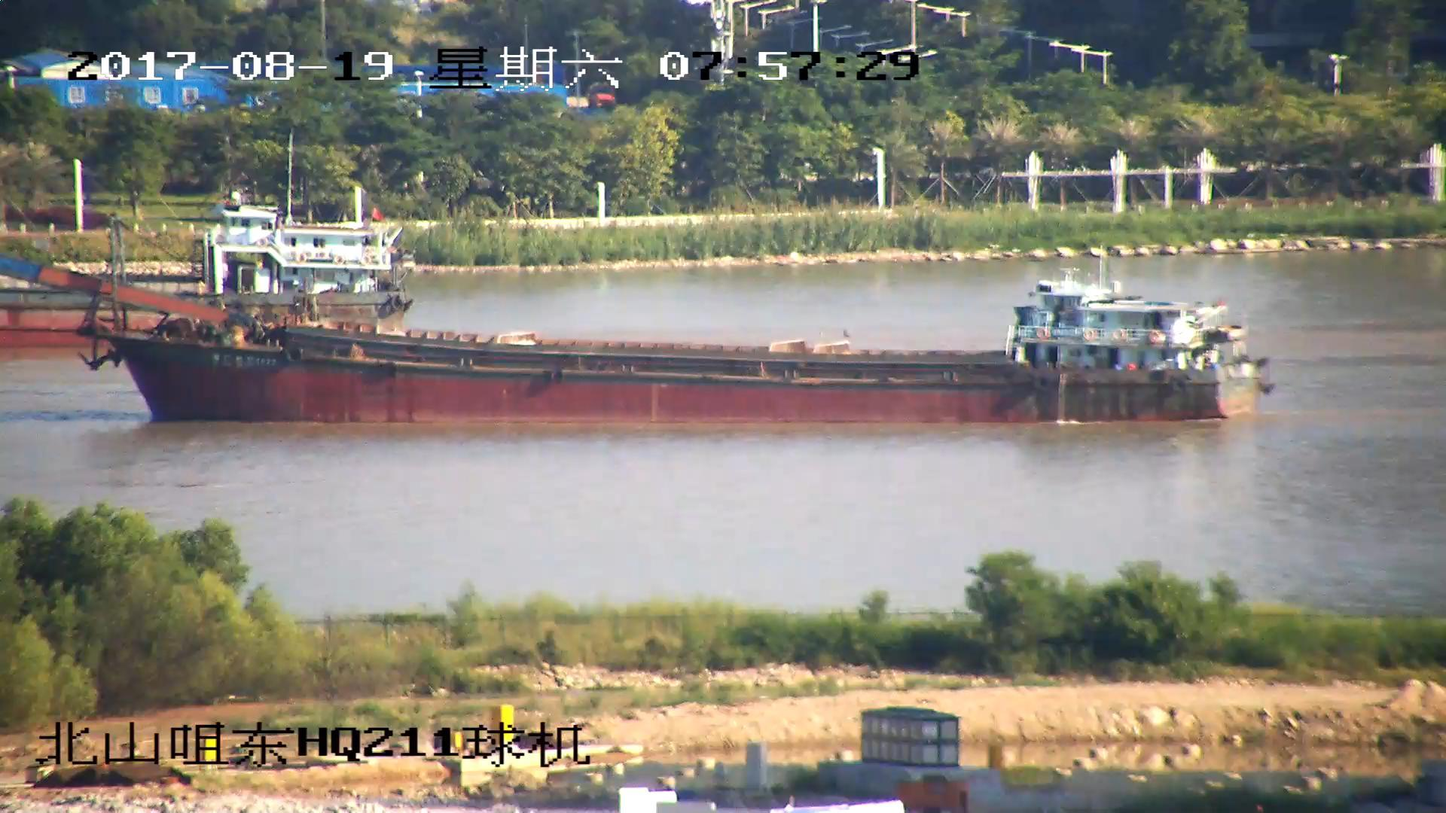bulk cargo carrier: (0, 216, 1275, 422), (0, 193, 409, 327)
